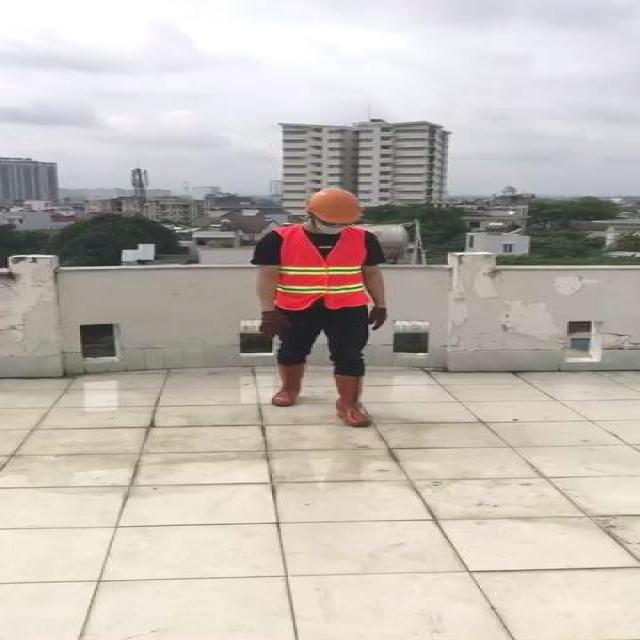boots: (331, 374, 373, 427), (266, 360, 306, 409)
hand_glove: (258, 310, 292, 338), (364, 306, 388, 330)
head_helmet: (308, 188, 362, 225)
person: (247, 186, 395, 430)
vest: (274, 225, 375, 308)
